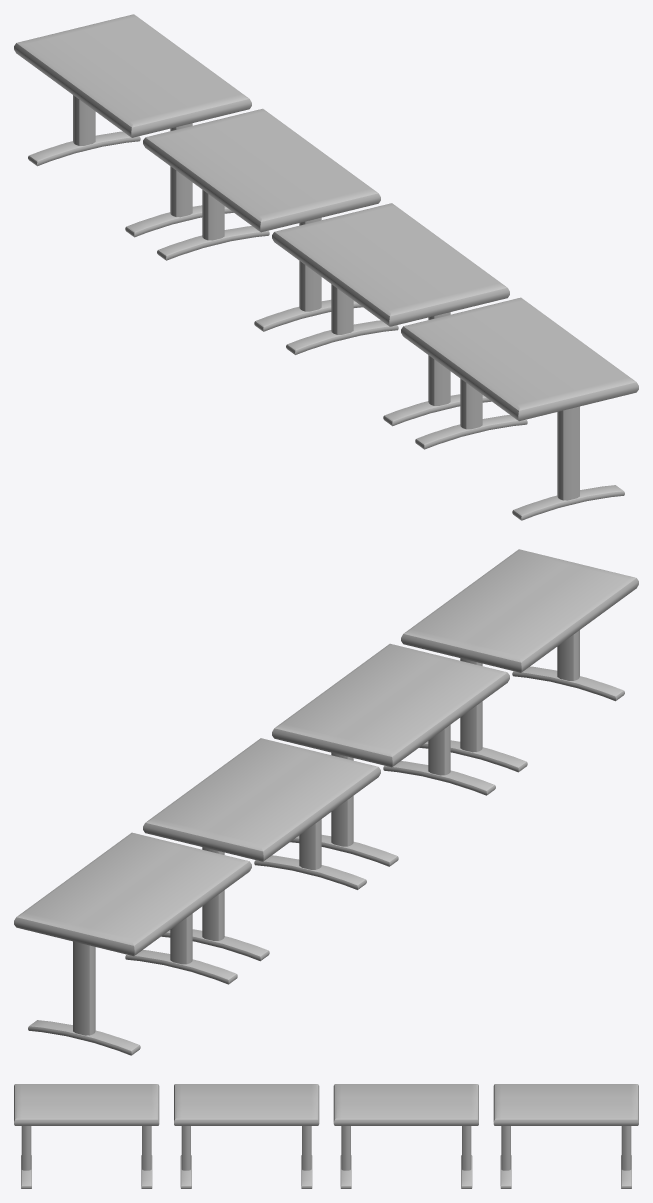
File: computer-classroom-desk-row.glb
3 views of the same model, one above another, from view 1: azimuth 30°, elevation 25°; view 2: azimuth 150°, elevation 25°; view 3: azimuth 270°, elevation 25° (orthographic). The views are drawn at different scales.
Visible parts, largest first — view 1: Object_56; view 2: Object_56; view 3: Object_56.
Boxes of the visible parts, box(x1,y1,x2,y2) form: Object_56: box(14, 14, 638, 520); Object_56: box(14, 549, 638, 1055); Object_56: box(14, 1084, 638, 1188).
Size of the model in its own units: 1.19 by 1.1 by 8.61.
Materials: 1 (1 with a texture image).
